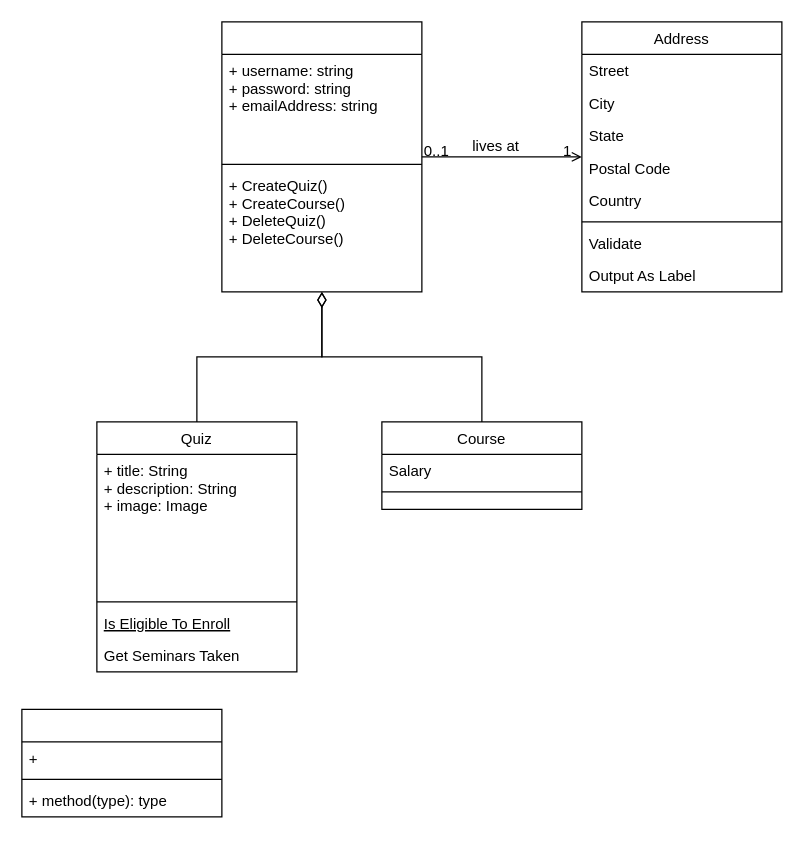
This 804x843 diagram has some shape labels left out. Here are the shapes that lost their labels. From the top down, the box of each, then its label:
(221, 21, 422, 292): Account
(21, 708, 222, 817): Image
